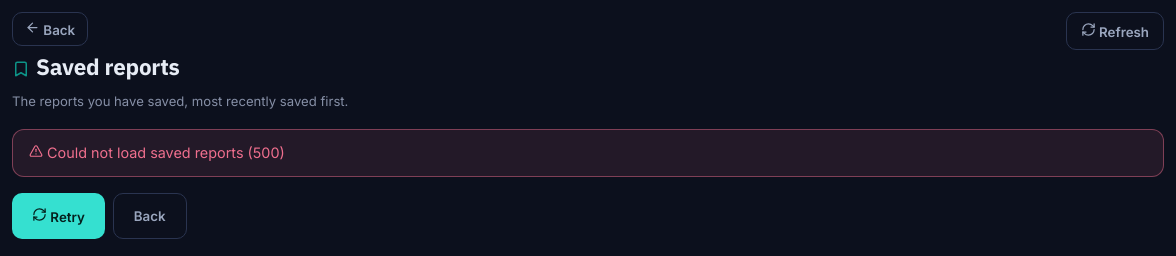
Test case: HistoryView › shows an error with a retry on load failure, then recovers (Req 9.9)
The width and height of the screenshot is (1176, 256).
expect the message shows "Could not load saved reports": met, box [47,144,285,161]
Click the button "Retry".
click(58, 216)  # box [12,193,105,239]
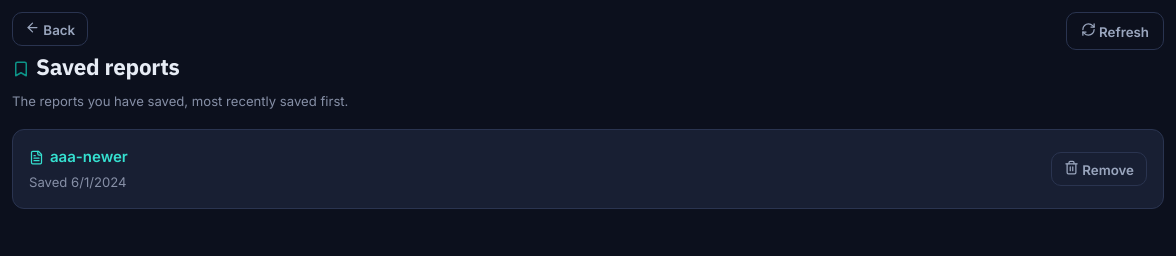
expect the text "aaa-newer" is shown: met, box [50,146,128,169]
